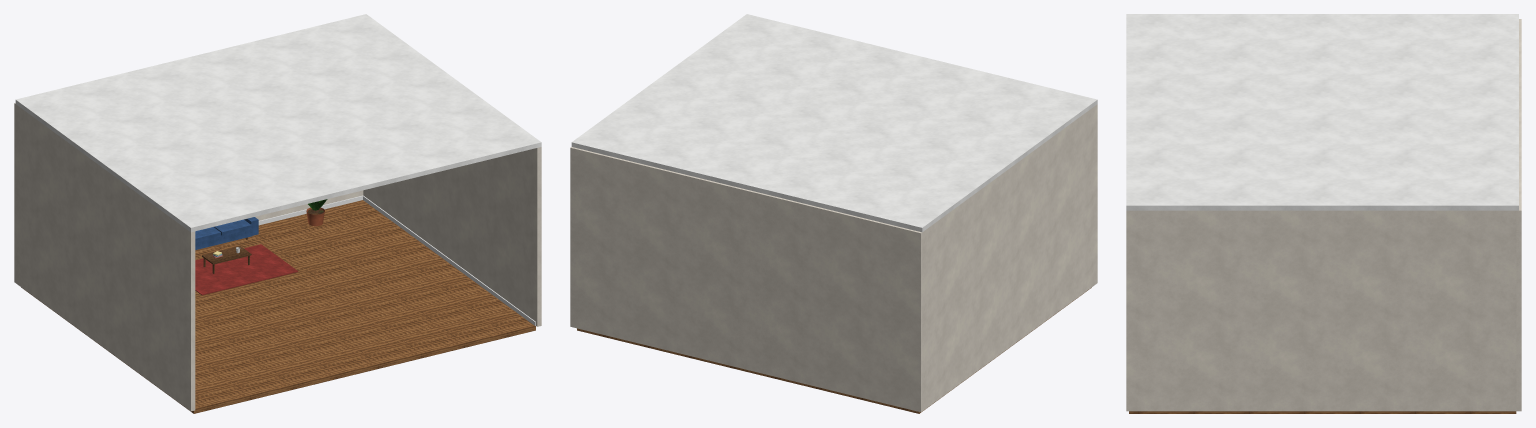
File: PROP_BG_LIVINGROOM.glb
3 views of the same model, side by side, from view 1: azimuth 30°, elevation 25°; view 2: azimuth 150°, elevation 25°; view 3: azimuth 270°, elevation 25° (orthographic). The views are drawn at different scales.
Parts seen in each view (by area): view 1: PROP_BG_LIVINGROOM_4, PROP_BG_LIVINGROOM_0, PROP_BG_LIVINGROOM_2, PROP_BG_LIVINGROOM_3, PROP_BG_LIVINGROOM_8, PROP_BG_LIVINGROOM_1, PROP_BG_LIVINGROOM_7; view 2: PROP_BG_LIVINGROOM_1, PROP_BG_LIVINGROOM_4, PROP_BG_LIVINGROOM_2, PROP_BG_LIVINGROOM_0; view 3: PROP_BG_LIVINGROOM_3, PROP_BG_LIVINGROOM_4, PROP_BG_LIVINGROOM_1, PROP_BG_LIVINGROOM_0.
Boxes of the visible parts, left/top/right/bottom form: PROP_BG_LIVINGROOM_4: left=15, top=14, right=541, bottom=232; PROP_BG_LIVINGROOM_0: left=21, top=200, right=535, bottom=413; PROP_BG_LIVINGROOM_2: left=15, top=104, right=195, bottom=411; PROP_BG_LIVINGROOM_3: left=363, top=147, right=541, bottom=326; PROP_BG_LIVINGROOM_8: left=195, top=244, right=298, bottom=295; PROP_BG_LIVINGROOM_1: left=14, top=103, right=363, bottom=282; PROP_BG_LIVINGROOM_7: left=363, top=196, right=535, bottom=325; PROP_BG_LIVINGROOM_1: left=570, top=147, right=923, bottom=412; PROP_BG_LIVINGROOM_4: left=571, top=14, right=1097, bottom=232; PROP_BG_LIVINGROOM_2: left=922, top=104, right=1097, bottom=410; PROP_BG_LIVINGROOM_0: left=577, top=287, right=1091, bottom=413; PROP_BG_LIVINGROOM_3: left=1126, top=210, right=1518, bottom=411; PROP_BG_LIVINGROOM_4: left=1126, top=14, right=1518, bottom=210; PROP_BG_LIVINGROOM_1: left=1516, top=19, right=1521, bottom=411; PROP_BG_LIVINGROOM_0: left=1129, top=411, right=1516, bottom=413.
Bounding box in the file's own units: 16.4 × 8.4 × 14.3.
23 materials, 11 textured.
